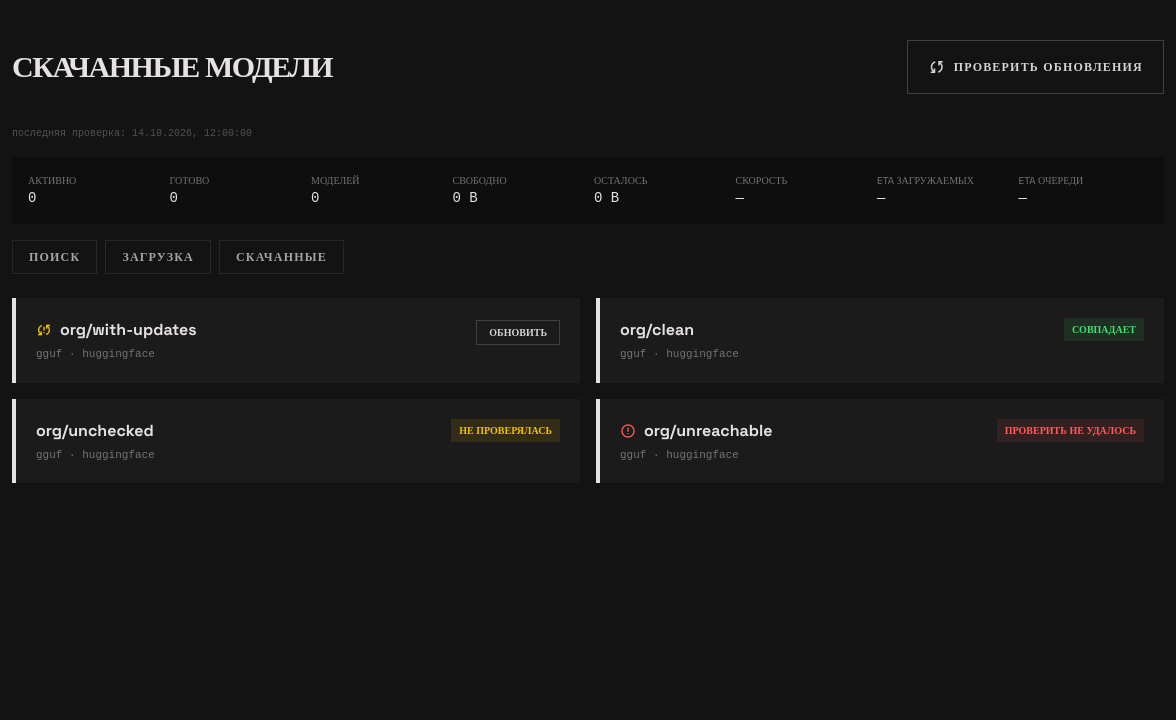
Test: DownloadedModelsPage — кнопка «Обновить» на плитке › сообщает об оставленных лишних файлах
The width and height of the screenshot is (1176, 720).
Step 1. Click the button with test id "update-model-1" → (518, 332), box top-left (476, 320), bottom-right (560, 345)
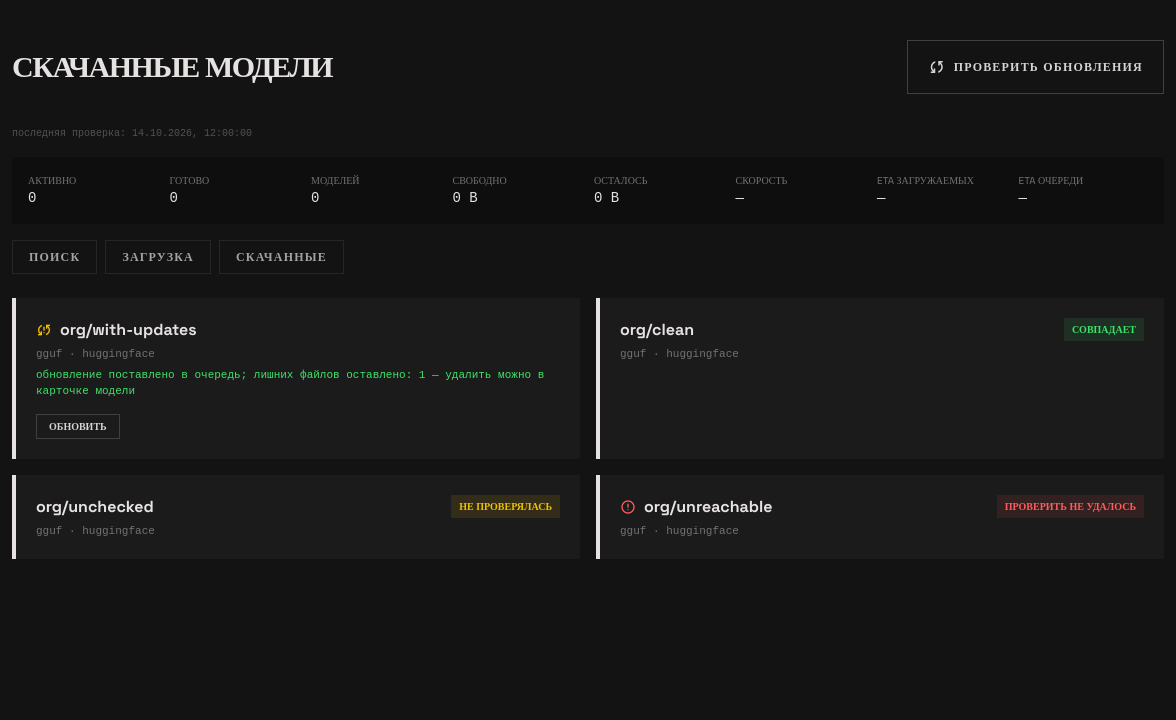
Now the text with test id "update-message-1" shows "лишних файлов оставлено: 1", box top-left (36, 368), bottom-right (544, 397)
Now the text with test id "update-message-1" shows "в карточке модели", box top-left (36, 368), bottom-right (544, 397)
